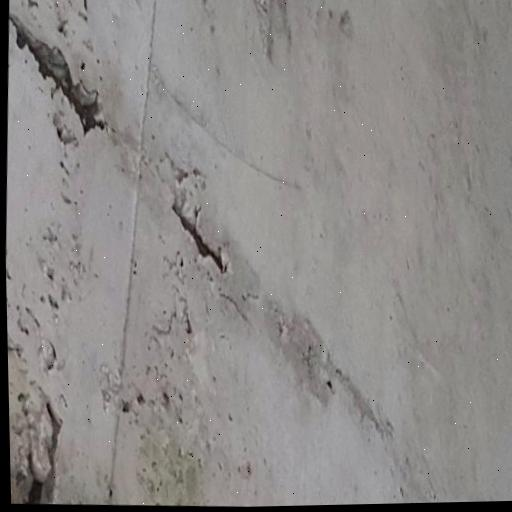exposed_rebar: (9, 12, 104, 132), (178, 214, 224, 273), (27, 479, 42, 503)
